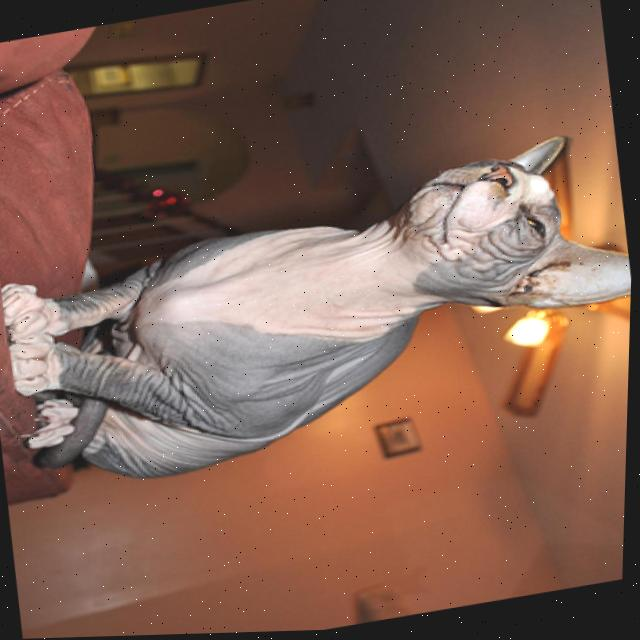Sphynx: (0, 123, 637, 504)
